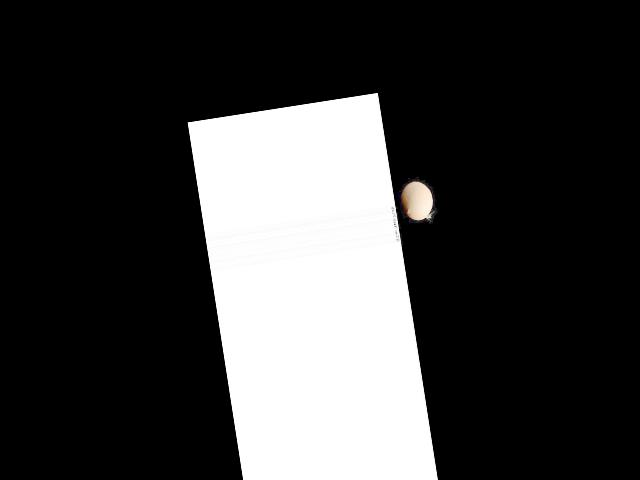egg: (398, 179, 434, 222)
